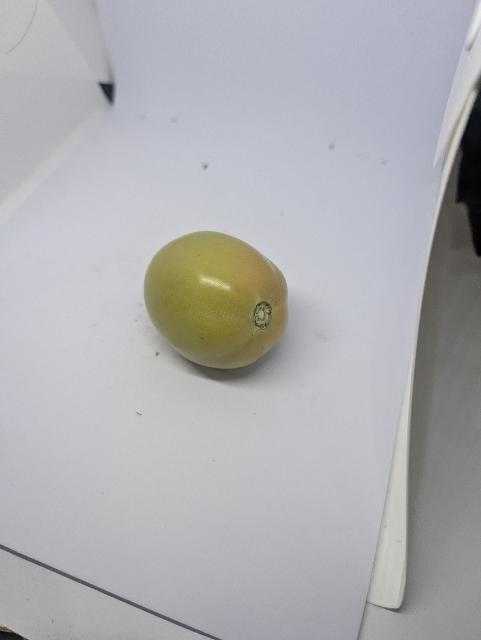breaker: (141, 226, 294, 373)
